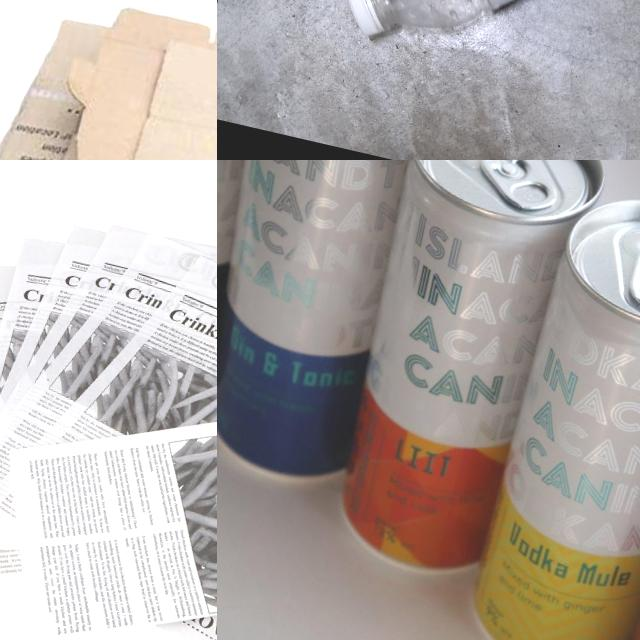aba de lata: (467, 160, 570, 216), (625, 240, 640, 318)
garrafa plástica: (358, 0, 640, 90)
lata: (317, 160, 613, 589), (466, 173, 640, 640), (217, 160, 448, 487)
papel: (0, 181, 217, 640)
papelão: (0, 0, 217, 160)
tampa plástica: (337, 0, 390, 39)
